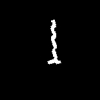half_double_crochet: (48, 20, 60, 63)
